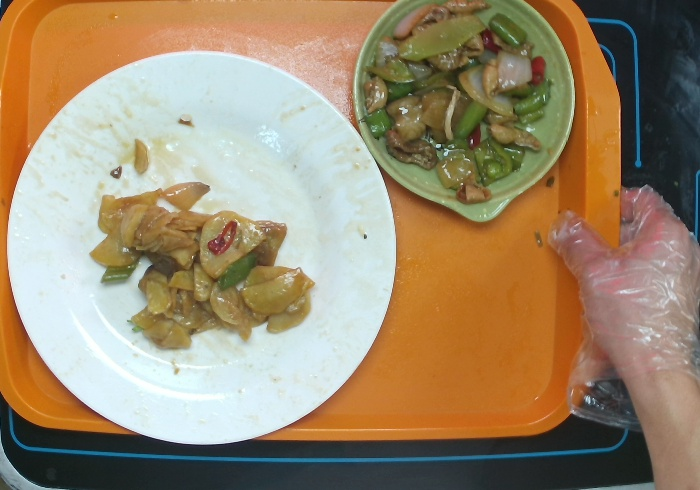NLDX-Da_Yuan_Pan: (1, 39, 409, 451)
NLDX-Lv_Hua_Shuang_Er_Die: (349, 1, 584, 234)
